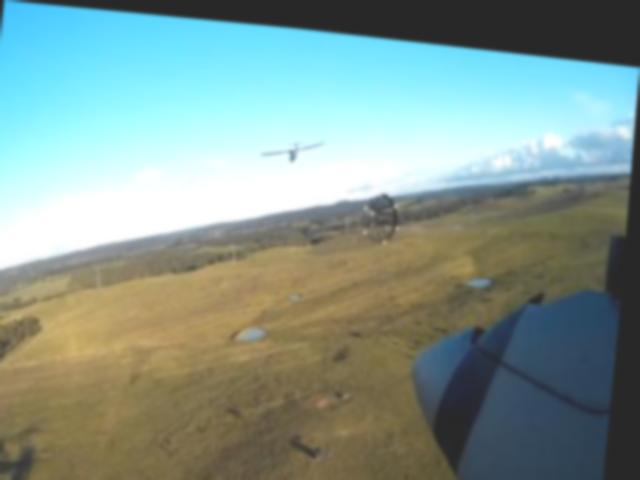uav: (259, 123, 328, 161)
